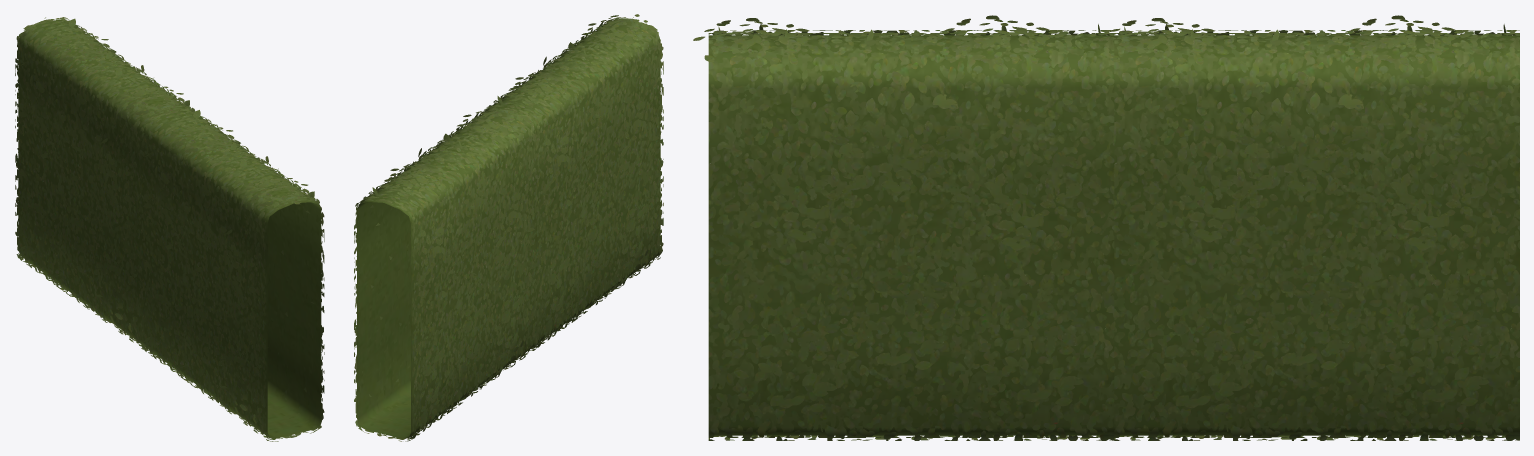
3 renders of one model, left to right at view 1: azimuth 30°, elevation 25°; view 2: azimuth 150°, elevation 25°; view 3: azimuth 270°, elevation 25°, orthographic. The views are drawn at different scales.
Parts seen in each view (by area): view 1: body0_model0_lod0_mesh0; view 2: body0_model0_lod0_mesh0; view 3: body0_model0_lod0_mesh0.
Boxes of the visible parts, x1,y1,x2,y2 form: body0_model0_lod0_mesh0: (15, 17, 324, 441); body0_model0_lod0_mesh0: (354, 14, 663, 441); body0_model0_lod0_mesh0: (693, 15, 1519, 440).
Bounding box in the file's own units: 45.64 × 139 × 261.
1 material, 1 textured.
